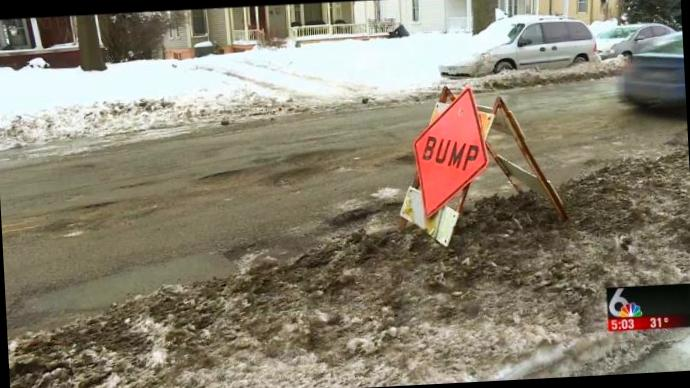pothole: (249, 150, 320, 204), (38, 197, 114, 247), (192, 155, 256, 203), (274, 138, 361, 172), (378, 136, 438, 175), (59, 158, 104, 178)
